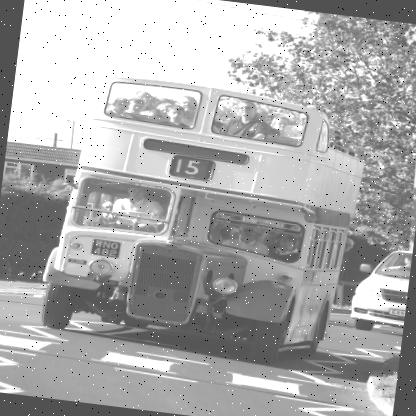Car: (348, 245, 412, 335)
